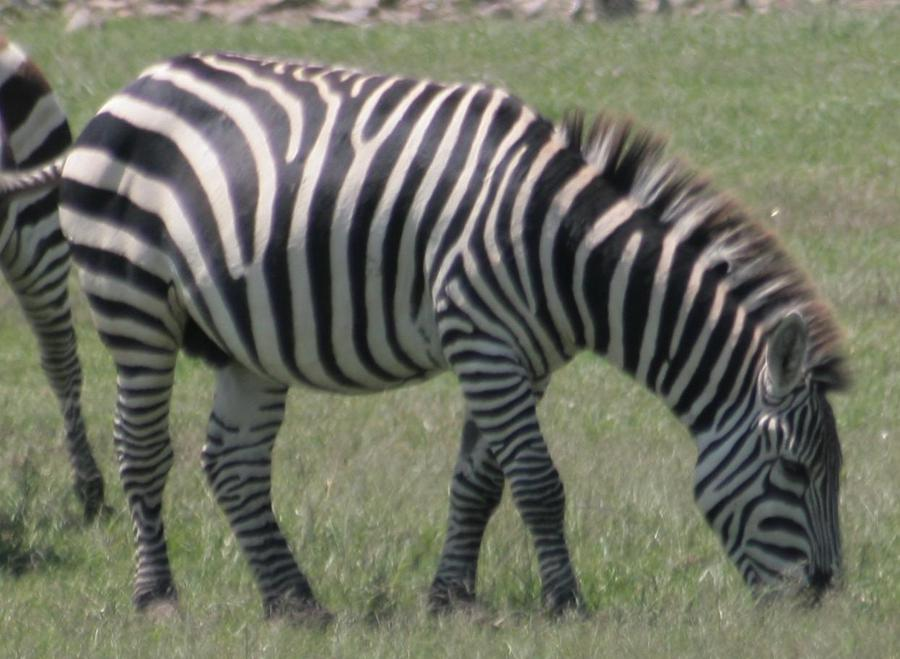zebra_plains: (25, 52, 614, 423)
